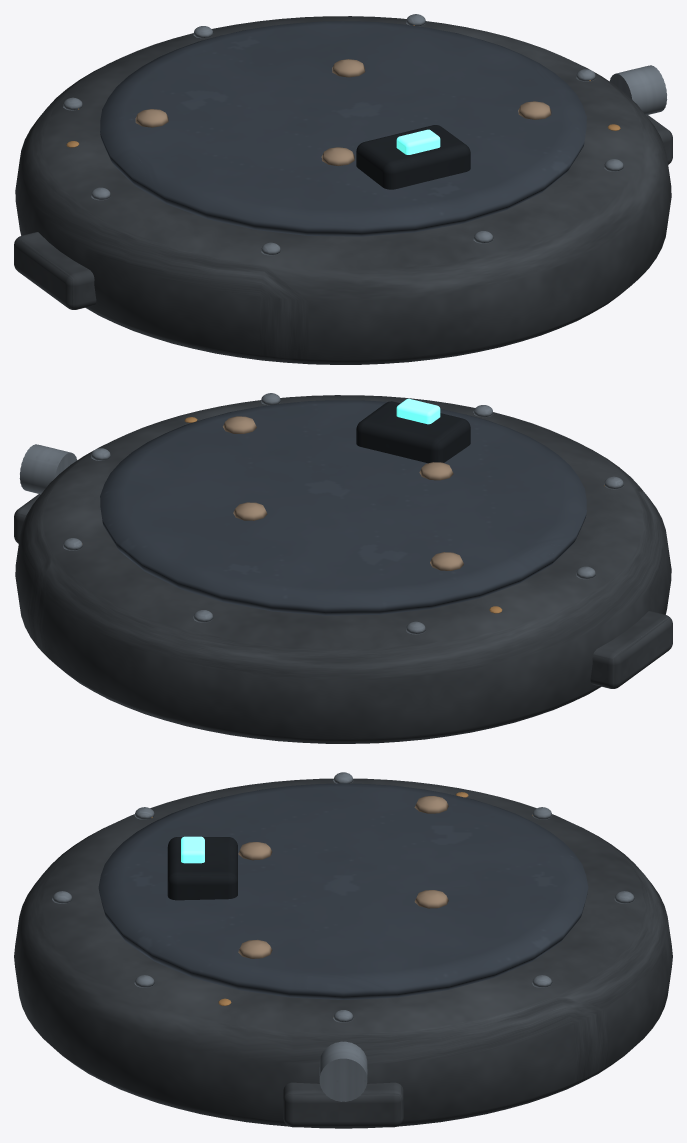
The model's file is trip-mine.glb.
The picture shows the model from 3 angles, top to bottom: view 1: azimuth 30°, elevation 25°; view 2: azimuth 150°, elevation 25°; view 3: azimuth 270°, elevation 25°; orthographic projection.
Visible parts, largest first — view 1: darksteel / oil-blackened fittings, ceramic / ceramic composite panel, polymer / stippled polymer, alloy / machined anodized alloy, glaze bead, energy / emissive field channel; view 2: darksteel / oil-blackened fittings, ceramic / ceramic composite panel, polymer / stippled polymer, alloy / machined anodized alloy, glaze bead, energy / emissive field channel; view 3: darksteel / oil-blackened fittings, ceramic / ceramic composite panel, alloy / machined anodized alloy, polymer / stippled polymer, glaze bead, energy / emissive field channel.
Boxes of the visible parts, x1,y1,x2,y2 form: darksteel / oil-blackened fittings: (14, 16, 672, 364); ceramic / ceramic composite panel: (100, 21, 586, 236); polymer / stippled polymer: (356, 125, 470, 189); alloy / machined anodized alloy: (63, 14, 667, 255); glaze bead: (135, 59, 551, 165); energy / emissive field channel: (396, 129, 440, 154); darksteel / oil-blackened fittings: (14, 395, 672, 743); ceramic / ceramic composite panel: (100, 400, 586, 615); polymer / stippled polymer: (356, 401, 470, 463); alloy / machined anodized alloy: (19, 393, 623, 634); glaze bead: (223, 416, 463, 570); energy / emissive field channel: (396, 398, 440, 424); darksteel / oil-blackened fittings: (14, 778, 672, 1128); ceramic / ceramic composite panel: (98, 783, 588, 999); alloy / machined anodized alloy: (52, 772, 634, 1101); polymer / stippled polymer: (167, 837, 237, 900); glaze bead: (238, 796, 448, 958); energy / emissive field channel: (181, 836, 204, 863).
Bounding box in the file's own units: 0.355 × 0.0869 × 0.3282.
7 materials, 4 textured.
